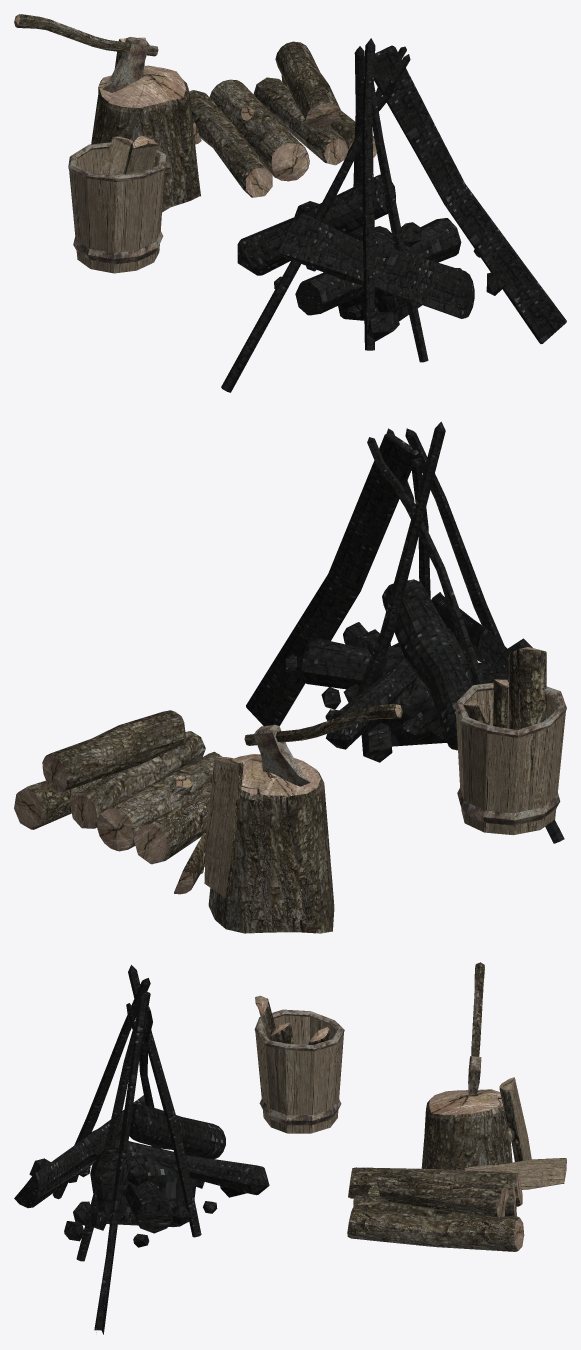
The model's file is TW2_1_HUT_05_5-transformed.glb.
3 renders of one model, top to bottom at view 1: azimuth 30°, elevation 25°; view 2: azimuth 150°, elevation 25°; view 3: azimuth 270°, elevation 25°, orthographic. The views are drawn at different scales.
Parts seen in each view (by area): view 1: default; view 2: default; view 3: default.
Boxes of the visible parts, x1=… form: default: x1=14, y1=14, x2=566, y2=392; default: x1=14, y1=421, x2=566, y2=933; default: x1=14, y1=962, x2=566, y2=1334.
Size of the model in its own units: 2.33 by 1.92 by 3.19.
Materials: 5 (5 with a texture image).
